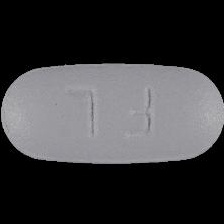63629-5291: (0, 0, 224, 224)
